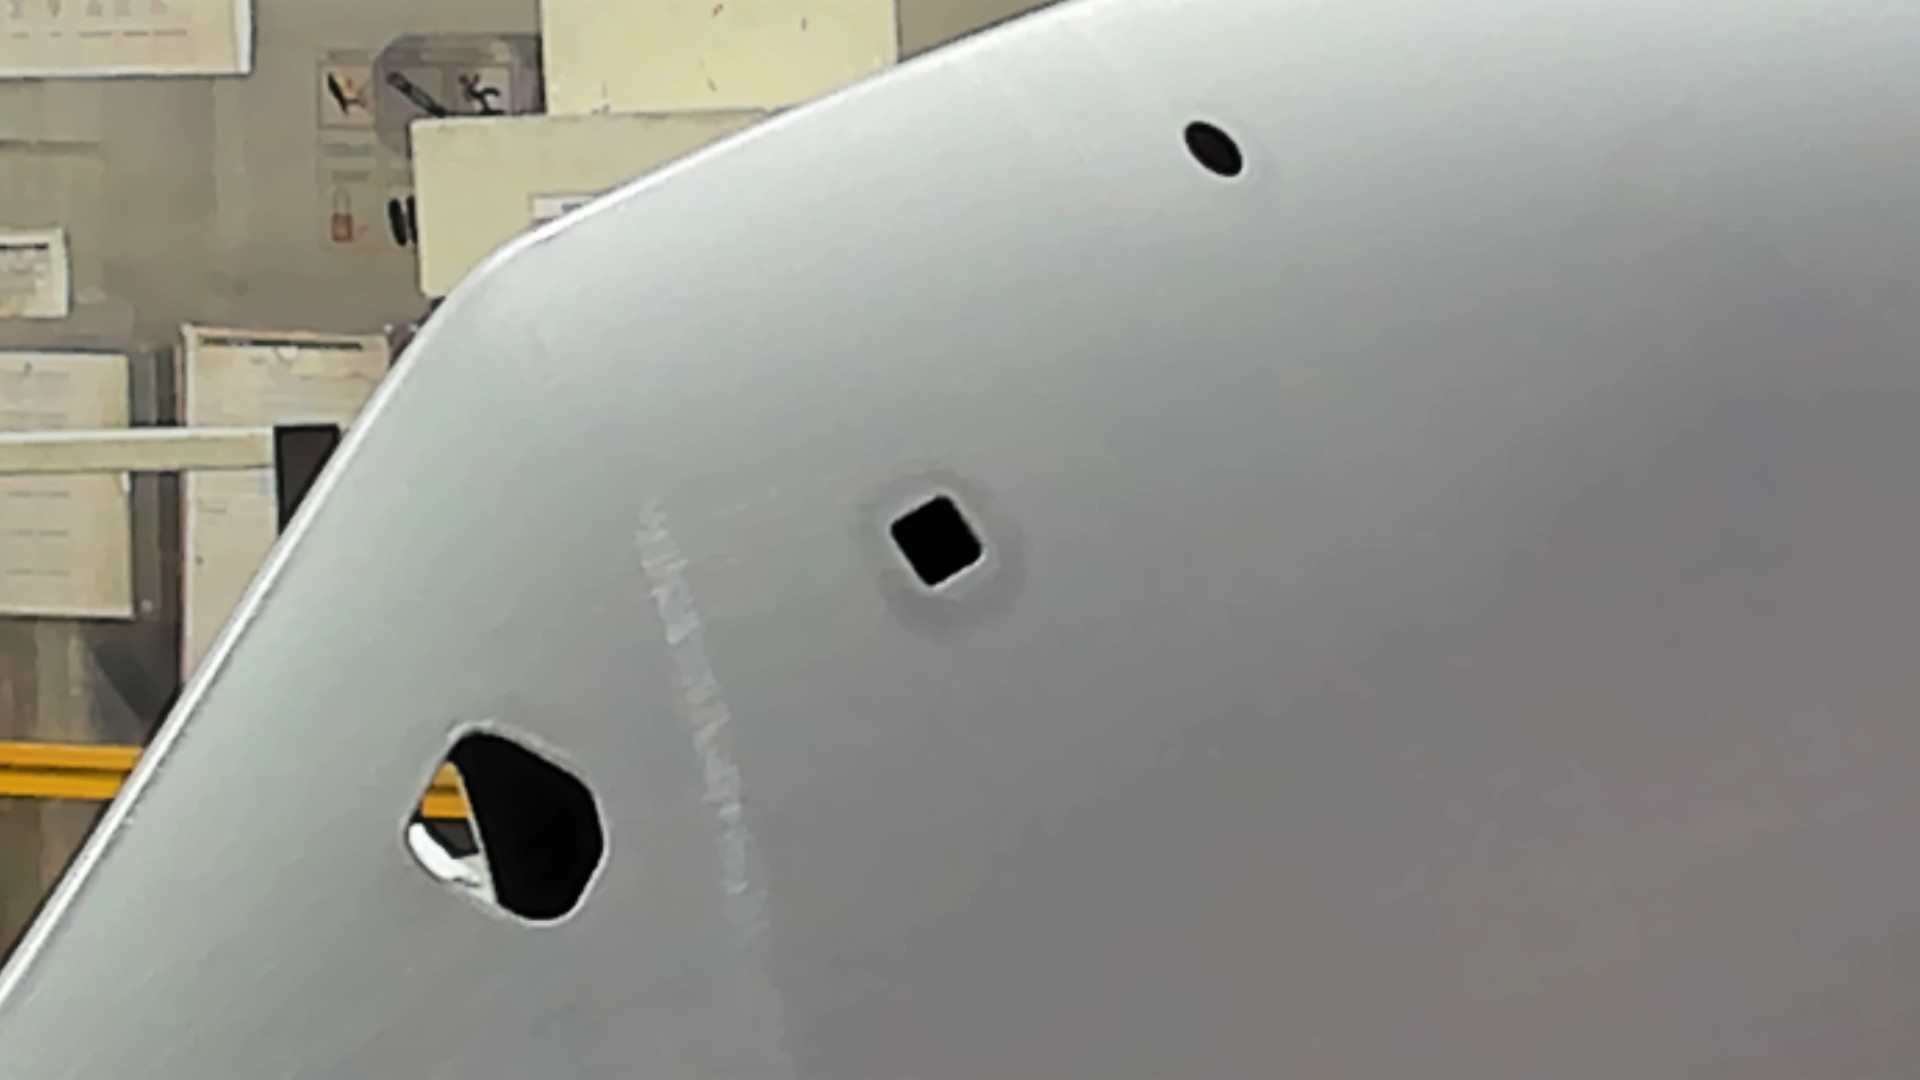chico: (1179, 113, 1247, 183)
grande: (405, 723, 615, 934)
mediano: (876, 487, 998, 592)
